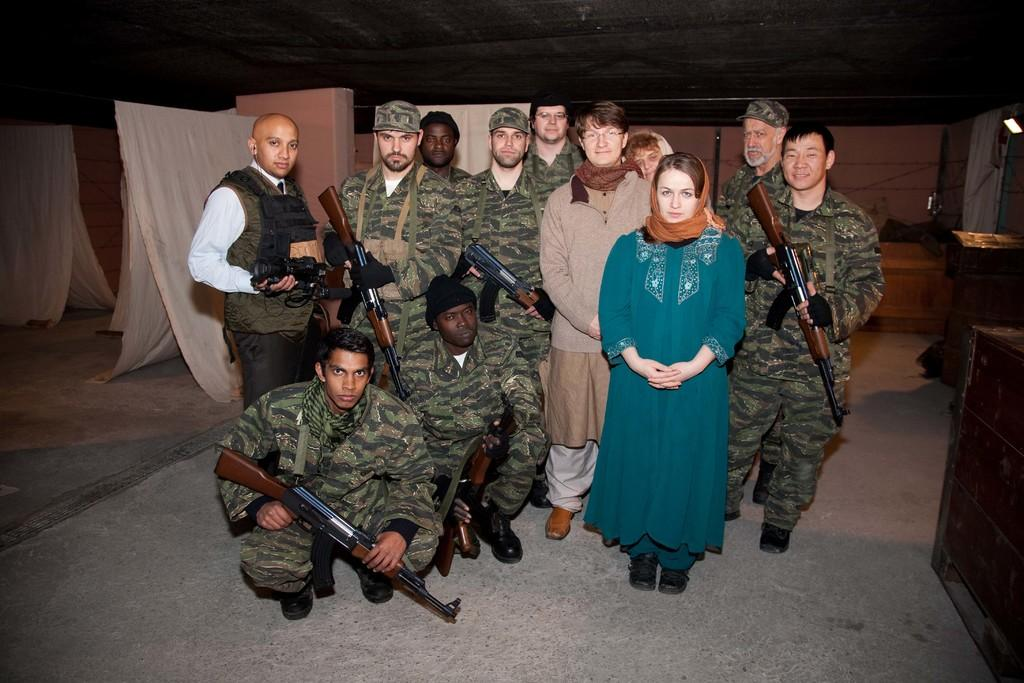Rifle: (219, 446, 454, 625), (741, 172, 849, 431), (310, 176, 412, 404), (458, 238, 545, 325)
